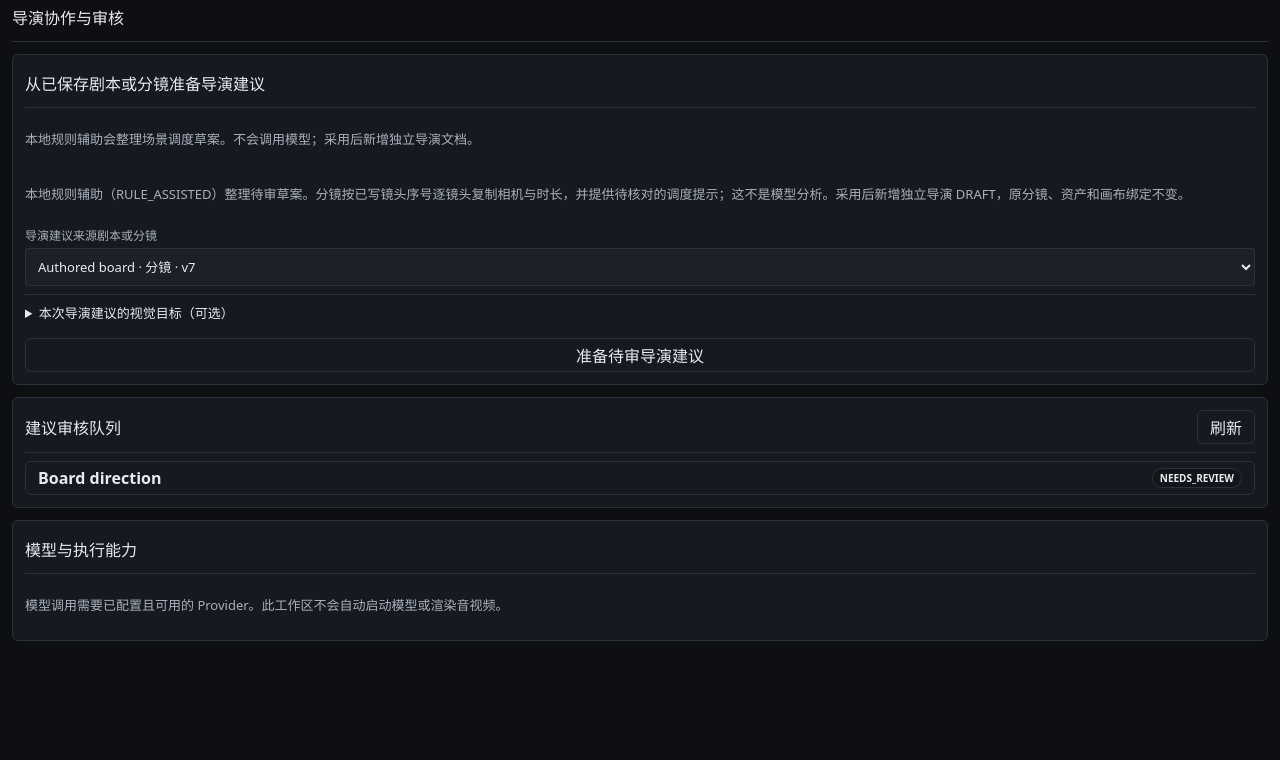
Test: labels rule seed field records independently after model refresh
Step 1. Click the button "Board direction NEEDS_REVIEW" → (100,478), box [25, 461, 1255, 495]
(page scrolled)
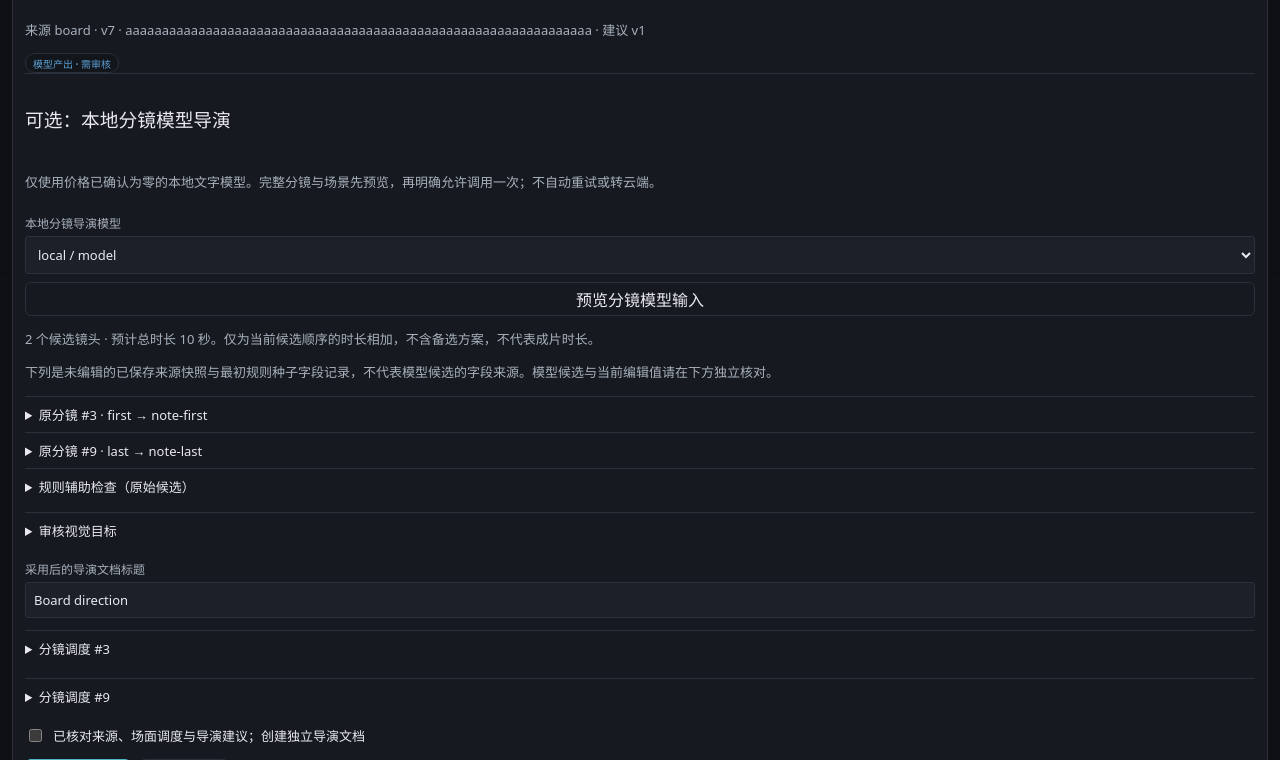
Expected: the text "下列是未编辑的已保存来源快照与最初规则种子字段记录，不代表模型候选的字段来源。模型候选与当前编辑值请在下方独立核对。" is shown, [25, 363, 779, 381]
